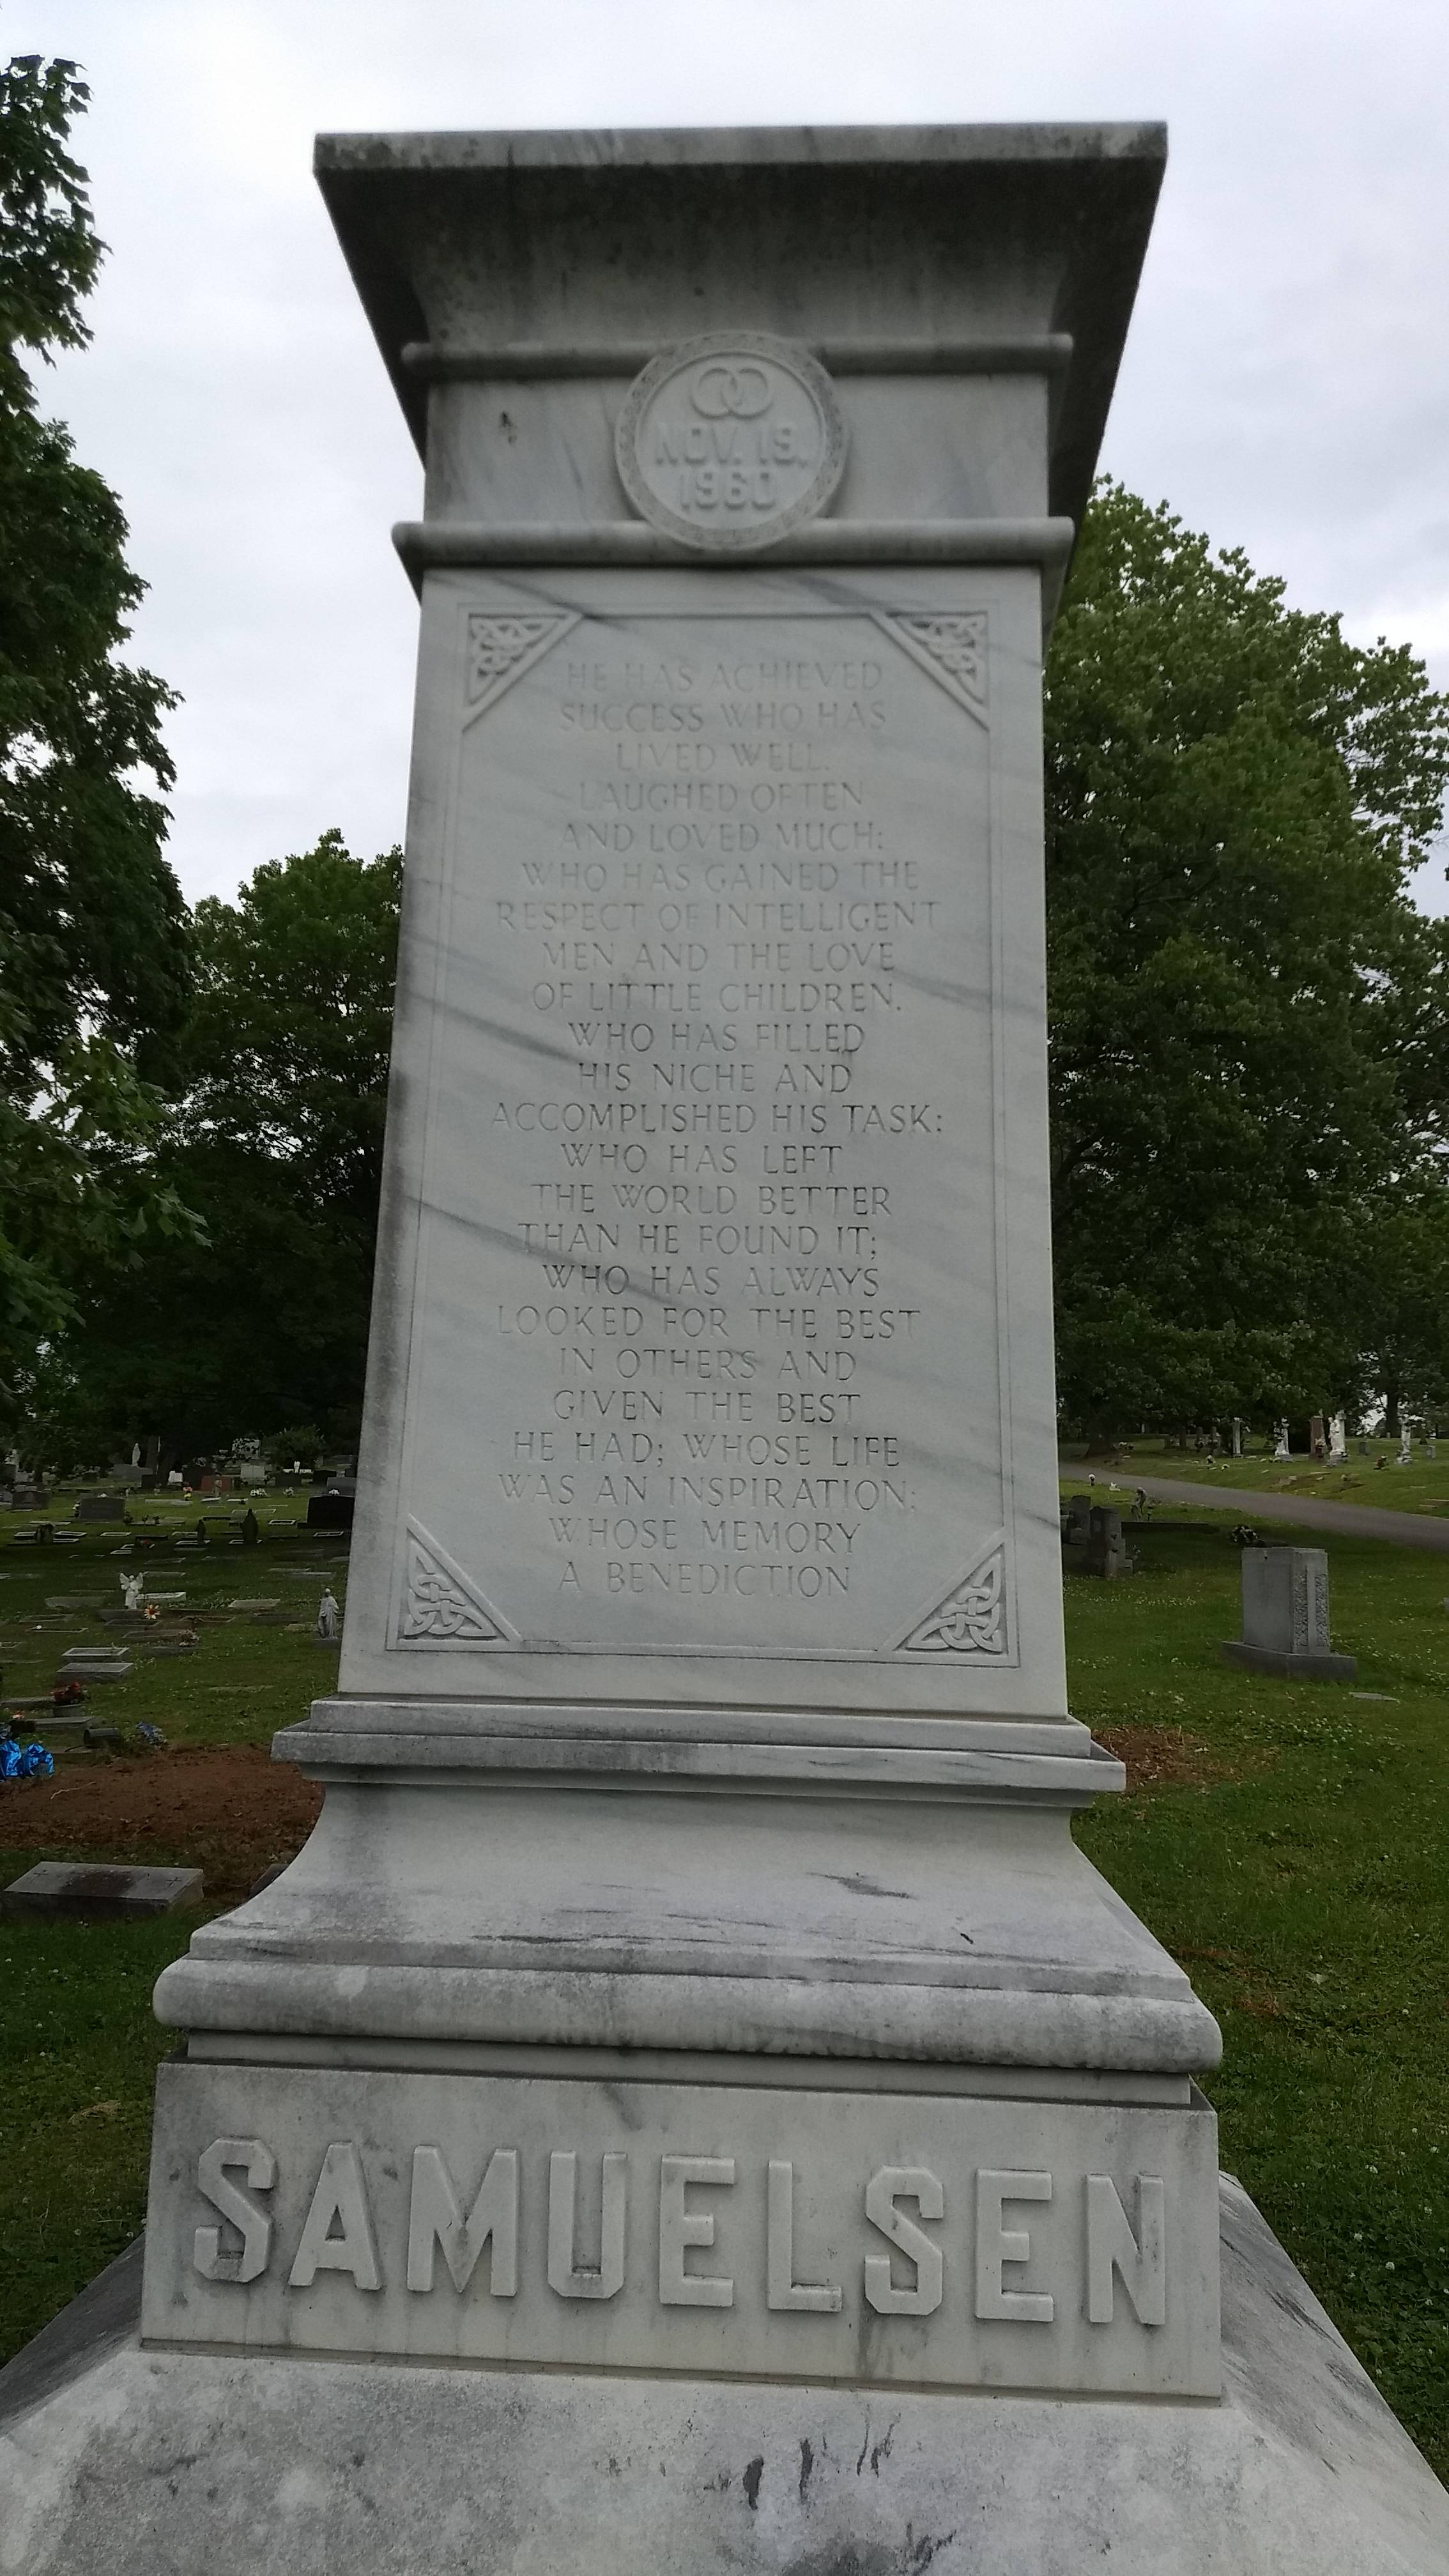obelisk: (124, 161, 1263, 2404)
